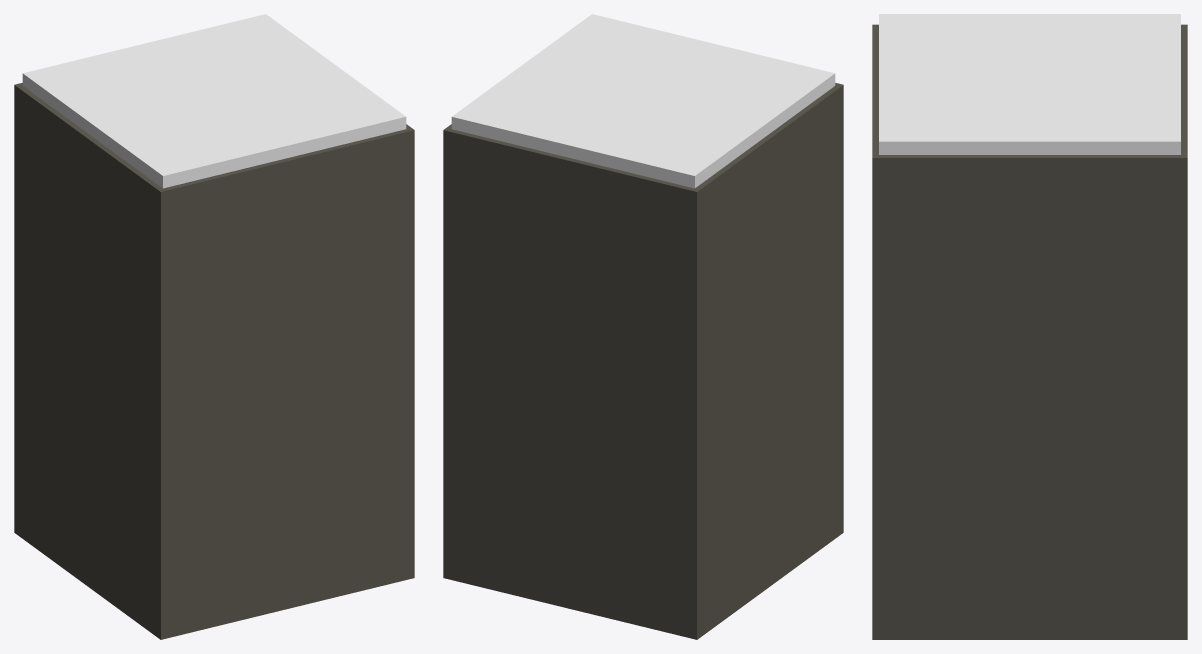
File: WinterRockA_01.fbx
The picture shows the model from 3 angles, left to right: view 1: azimuth 30°, elevation 25°; view 2: azimuth 150°, elevation 25°; view 3: azimuth 270°, elevation 25°; orthographic projection. The views are drawn at different scales.
Visible parts, largest first — view 1: WinterRockA_01; view 2: WinterRockA_01; view 3: WinterRockA_01.
Part boxes in pixels (bbox=[...]): WinterRockA_01: bbox=[14, 14, 414, 639]; WinterRockA_01: bbox=[443, 14, 843, 639]; WinterRockA_01: bbox=[872, 14, 1187, 639].
Size of the model in its own units: 0.6416 by 1.11 by 0.6417.
